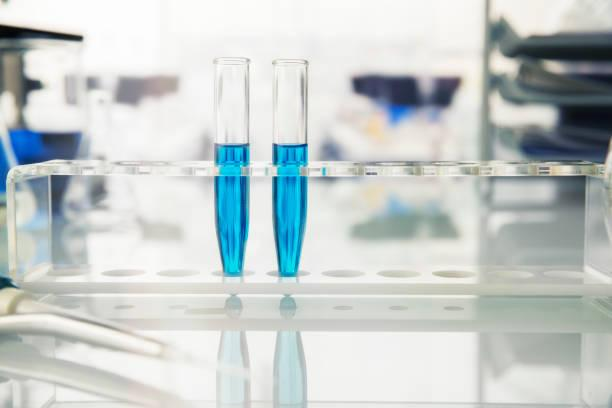Test tube: (265, 53, 309, 273), (209, 48, 250, 278)
